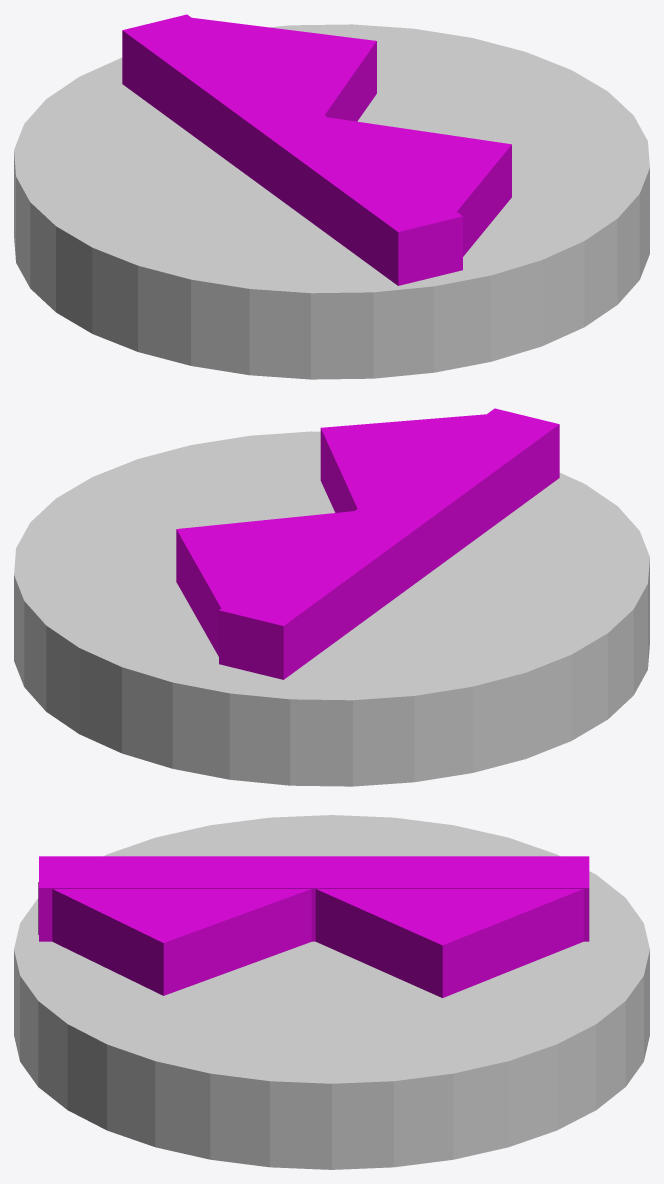
File: Rune4.fbx
3 views of the same model, one above another, from view 1: azimuth 30°, elevation 25°; view 2: azimuth 150°, elevation 25°; view 3: azimuth 270°, elevation 25° (orthographic).
Parts seen in each view (by area): view 1: Cylinder, Cube, Cube.001, Cube.003; view 2: Cylinder, Cube, Cube.003, Cube.001; view 3: Cylinder, Cube.003, Cube.001, Cube.
Part boxes in pixels (bbox=[...]): Cylinder: bbox=[14, 24, 649, 379]; Cube: bbox=[122, 14, 462, 285]; Cube.001: bbox=[328, 117, 511, 273]; Cube.003: bbox=[192, 17, 376, 121]; Cylinder: bbox=[14, 431, 649, 786]; Cube: bbox=[219, 408, 559, 679]; Cube.003: bbox=[176, 511, 353, 656]; Cube.001: bbox=[320, 414, 485, 512]; Cylinder: bbox=[14, 815, 649, 1169]; Cube.003: bbox=[315, 889, 583, 997]; Cube.001: bbox=[38, 882, 311, 995]; Cube: bbox=[39, 856, 589, 941].
Size of the model in its own units: 200 by 48.54 by 200.
